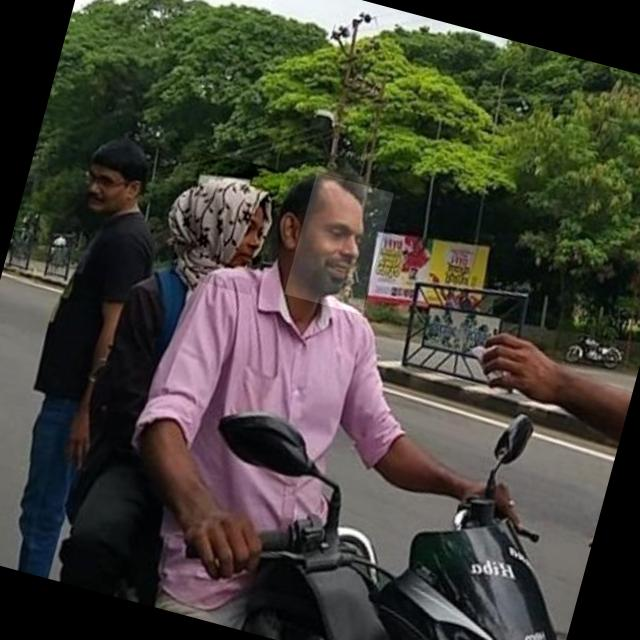without helmet: (168, 150, 284, 295), (284, 172, 394, 314)
